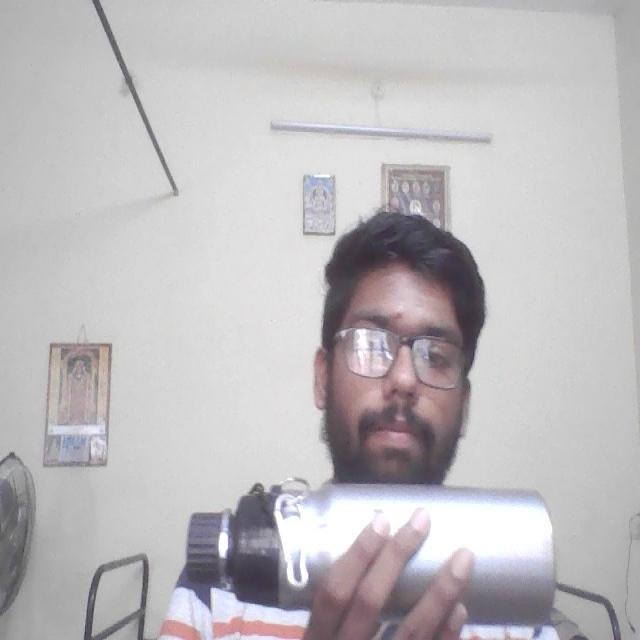Drinking: (176, 467, 566, 635)
